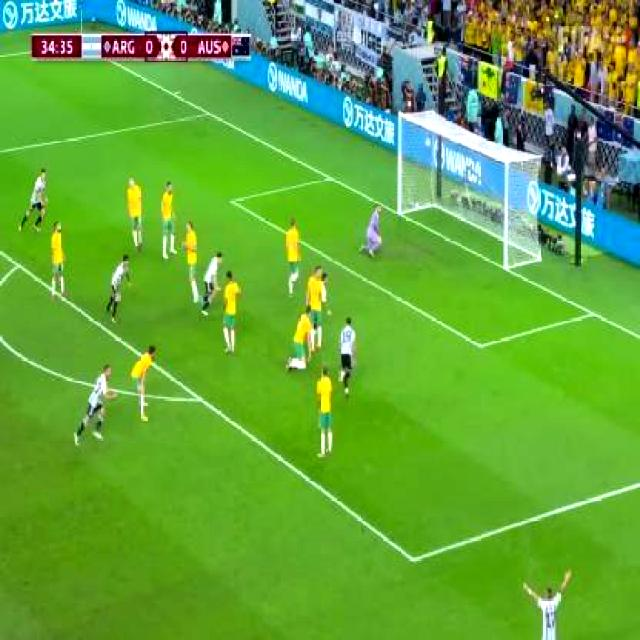bigarea_bottom_inner: (398, 534, 431, 584)
bigarea_top_outter: (200, 102, 218, 126)
bottom_arc_area_intersection: (186, 375, 211, 420)
smallarea_bottom_inner: (470, 326, 492, 365)
smallarea_bottom_outter: (580, 294, 603, 334)
smallarea_top_inner: (223, 185, 243, 217)
smallarea_top_outter: (322, 163, 340, 192)
top_arc_area_intersection: (9, 246, 28, 285)
